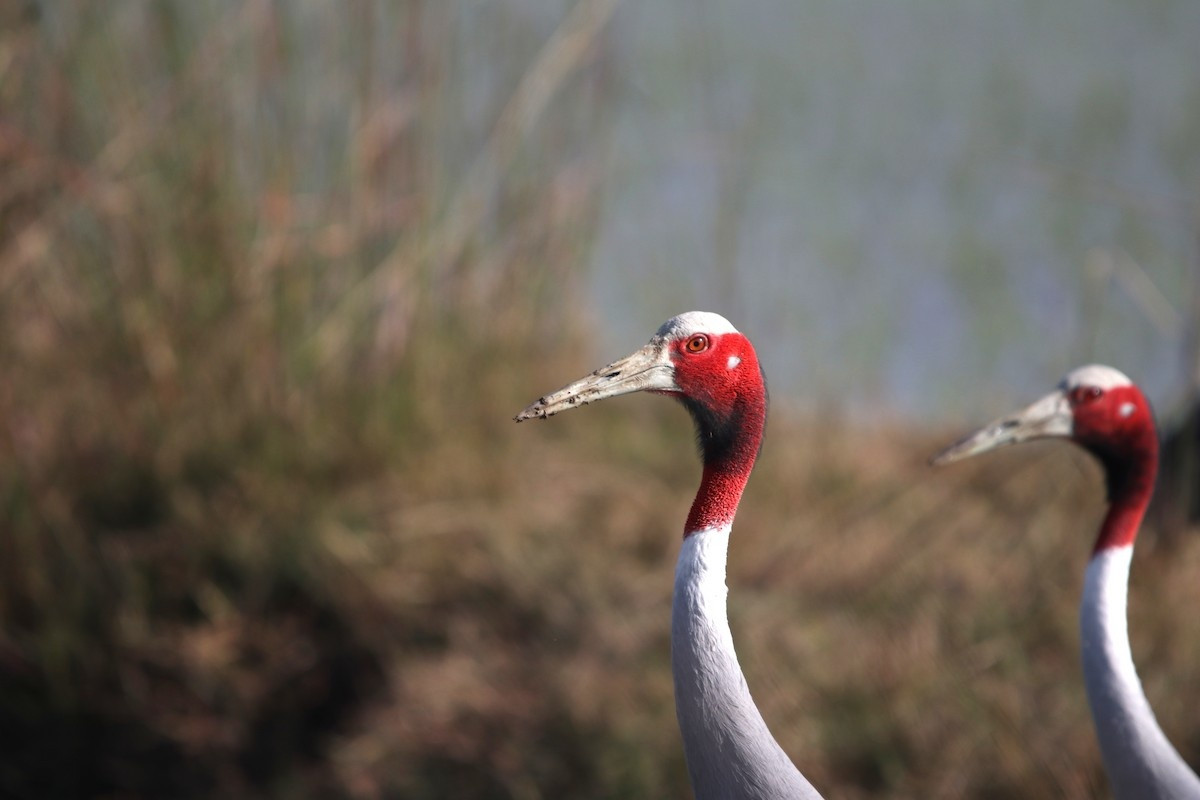crane: (507, 299, 832, 797), (921, 357, 1195, 796)
